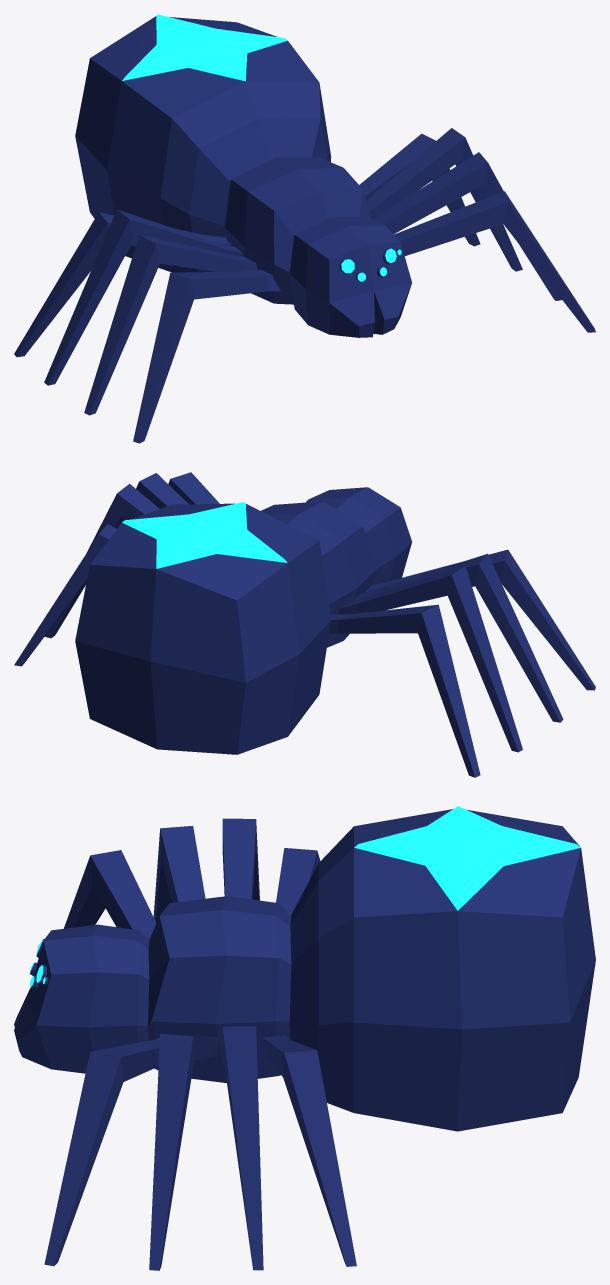
The model's file is bluespider.glb.
3 views of the same model, one above another, from view 1: azimuth 30°, elevation 25°; view 2: azimuth 150°, elevation 25°; view 3: azimuth 270°, elevation 25° (orthographic). The views are drawn at different scales.
Visible parts, largest first — view 1: Cube.041; view 2: Cube.041; view 3: Cube.041.
Part boxes in pixels (x1=…): Cube.041: x1=14, y1=14, x2=595, y2=443; Cube.041: x1=14, y1=472, x2=595, y2=777; Cube.041: x1=14, y1=806, x2=595, y2=1270.
Size of the model in its own units: 1.04 by 0.481 by 0.8629.
